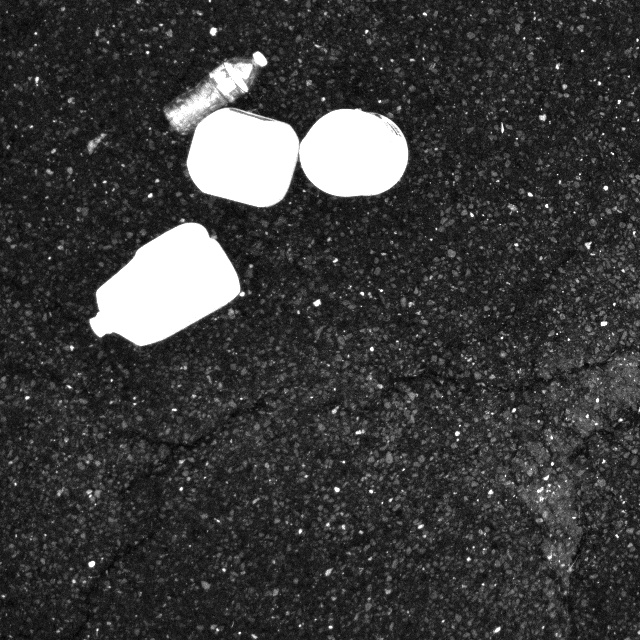bottle: (152, 45, 277, 131)
can: (84, 211, 257, 361), (176, 104, 310, 216), (295, 100, 412, 209)
